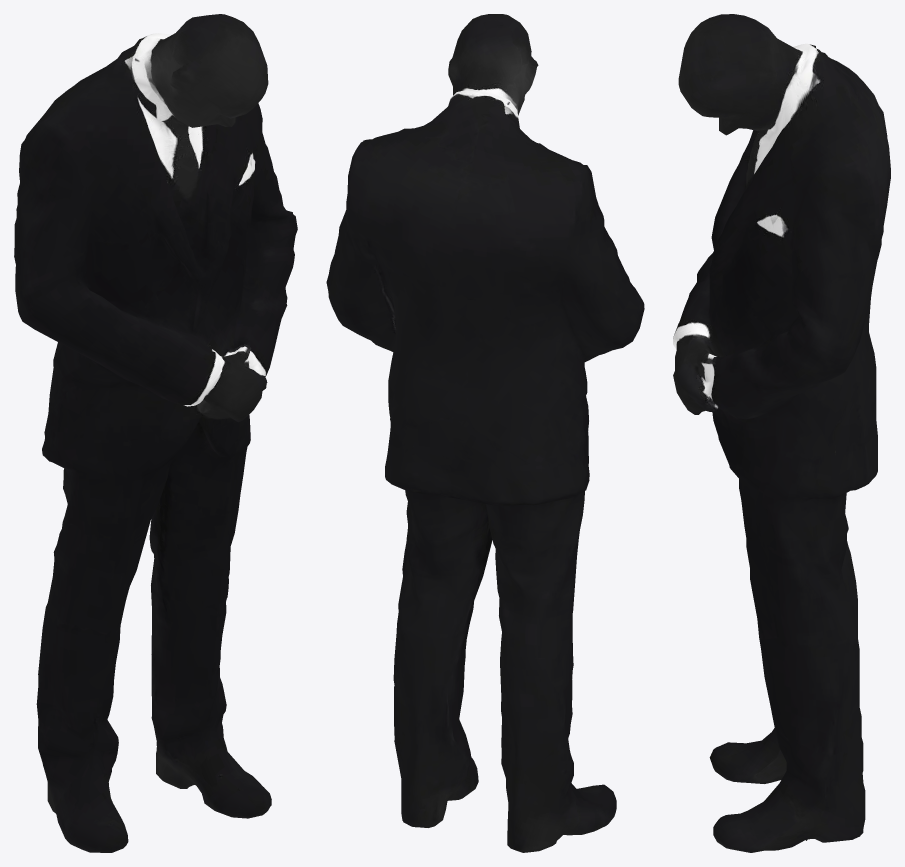
Rendered from spectator.glb.
The picture shows the model from 3 angles, left to right: view 1: azimuth 30°, elevation 25°; view 2: azimuth 150°, elevation 25°; view 3: azimuth 270°, elevation 25°; orthographic projection. The views are drawn at different scales.
Parts seen in each view (by area): view 1: mesh_node; view 2: mesh_node; view 3: mesh_node.
Part boxes in pixels (x1,y1,x2,y2): mesh_node: (14, 14, 297, 852); mesh_node: (326, 14, 644, 852); mesh_node: (673, 14, 890, 852).
Bounding box in the file's own units: 0.7398 × 1.91 × 0.4658.
Materials: 1 (1 with a texture image).
